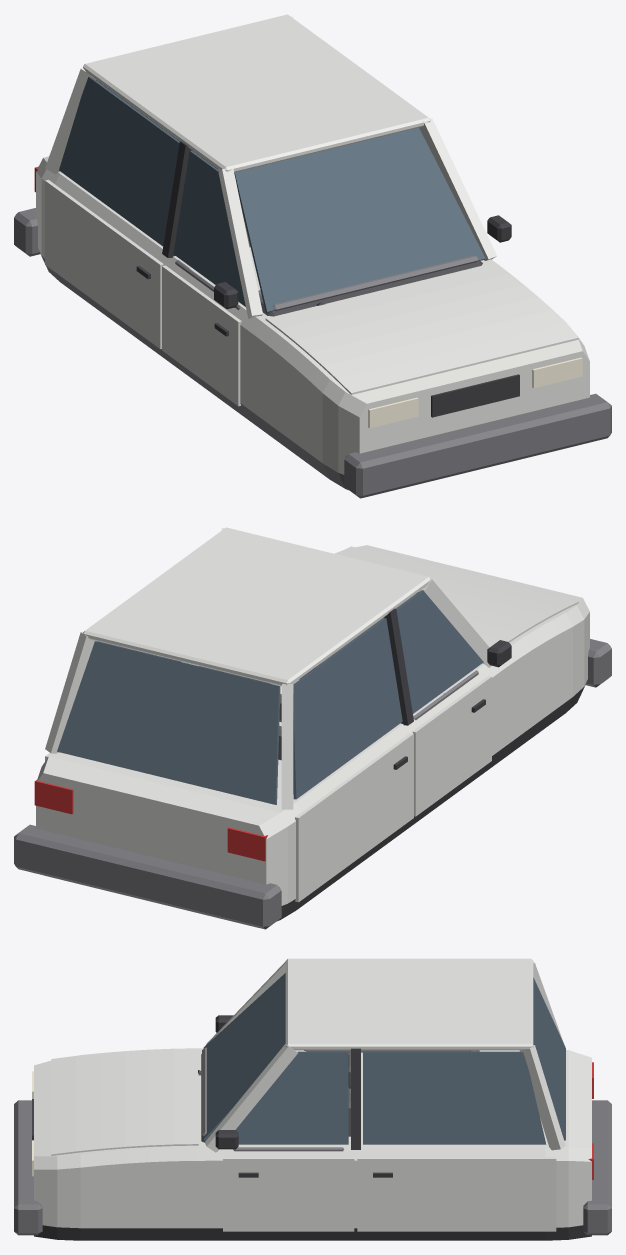
Rendered from hatchback.glb.
The picture shows the model from 3 angles, top to bottom: view 1: azimuth 30°, elevation 25°; view 2: azimuth 150°, elevation 25°; view 3: azimuth 270°, elevation 25°; orthographic projection. The views are drawn at different scales.
Visible parts, largest first — view 1: roof, win_front, body, bonnet, bumper_f, win_rl, door_rl, door_fl, win_fl, pillar_al, pillar_ar, grille (+7 smaller); view 2: body, roof, win_rear, bumper_r, win_rl, door_rl, door_fl, bonnet, win_fl, pillar_cr, pillar_cl, pillar_al (+4 smaller); view 3: body, roof, win_rr, door_rr, bonnet, door_fr, win_fr, win_front, bumper_r, bumper_f, win_rear, pillar_ar (+6 smaller).
Part boxes in pixels (x1,y1,x2,y2): roof: [83, 14, 430, 172]; win_front: [234, 127, 485, 312]; body: [36, 156, 589, 495]; bonnet: [265, 263, 578, 394]; bumper_f: [344, 393, 611, 498]; win_rl: [59, 77, 179, 246]; door_rl: [45, 179, 163, 349]; door_fl: [162, 265, 241, 406]; win_fl: [173, 150, 245, 306]; pillar_al: [218, 167, 262, 318]; pillar_ar: [419, 118, 496, 260]; grille: [431, 374, 519, 417]; body: [36, 545, 589, 925]; roof: [83, 527, 429, 686]; win_rear: [57, 641, 280, 804]; bumper_r: [14, 824, 281, 929]; win_rl: [293, 618, 402, 799]; door_rl: [295, 733, 413, 902]; door_fl: [412, 675, 491, 816]; bonnet: [336, 546, 578, 647]; win_fl: [396, 590, 483, 713]; pillar_cr: [45, 632, 96, 753]; pillar_cl: [281, 683, 293, 809]; pillar_al: [419, 578, 490, 667]; body: [34, 1048, 591, 1240]; roof: [285, 958, 533, 1050]; win_rr: [363, 1051, 546, 1144]; door_rr: [357, 1157, 556, 1231]; bonnet: [51, 1048, 198, 1155]; door_fr: [223, 1157, 354, 1231]; win_fr: [236, 1051, 348, 1144]; win_front: [203, 973, 285, 1140]; bumper_r: [583, 1100, 611, 1235]; bumper_f: [14, 1100, 42, 1235]; win_rear: [533, 977, 565, 1140]; pillar_ar: [204, 1042, 297, 1152].
Bounding box in the file's own units: 2 × 1.46 × 4.18.
